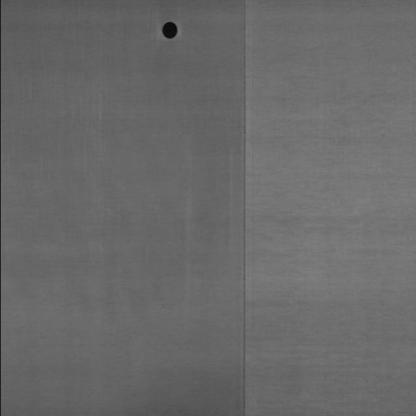punching_hole: (158, 19, 181, 43)
welding_line: (230, 1, 258, 414)
